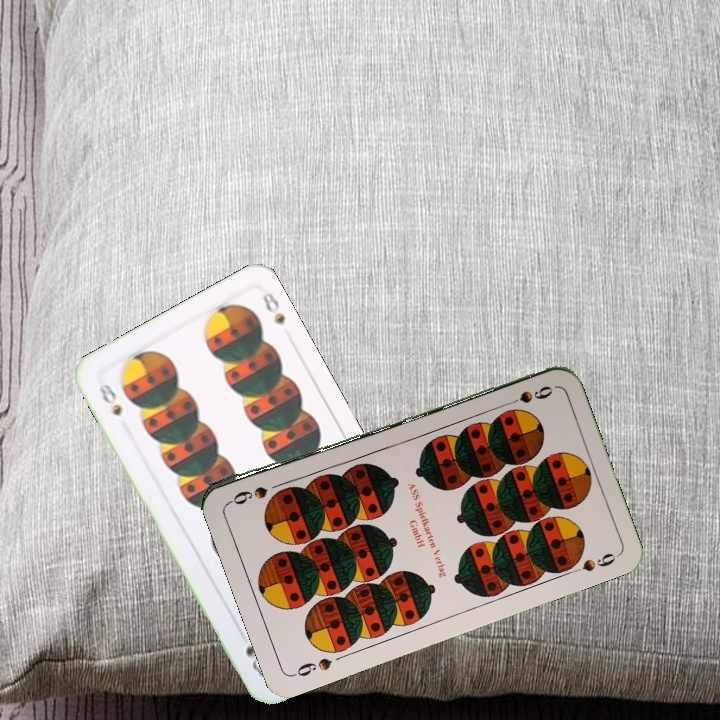S8: (92, 377, 125, 419)
S9: (498, 381, 554, 410), (289, 654, 335, 679)
